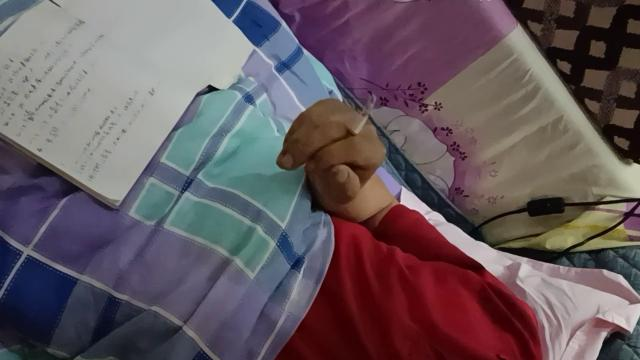Cigarette: (344, 94, 378, 142)
